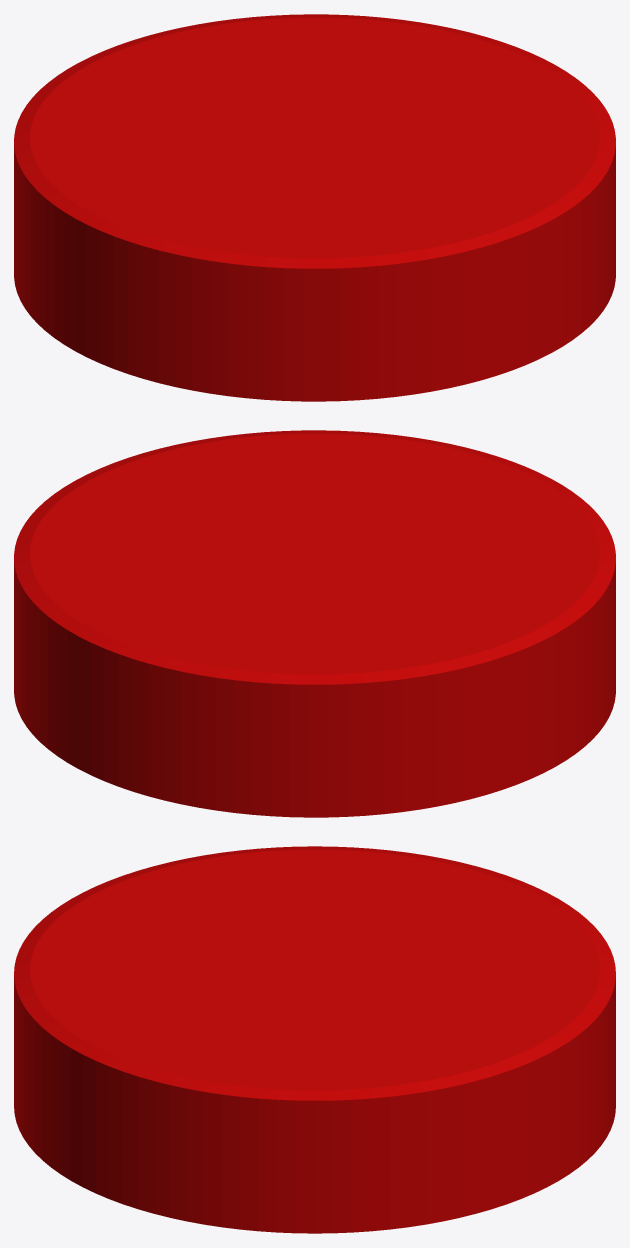
File: ButtonTop.obj
3 views of the same model, one above another, from view 1: azimuth 30°, elevation 25°; view 2: azimuth 150°, elevation 25°; view 3: azimuth 270°, elevation 25° (orthographic).
Visible parts, largest first — view 1: Cylinder_Cylinder.003; view 2: Cylinder_Cylinder.003; view 3: Cylinder_Cylinder.003.
Part boxes in pixels (left/top/right/bottom): Cylinder_Cylinder.003: left=14, top=14, right=615, bottom=401; Cylinder_Cylinder.003: left=14, top=430, right=615, bottom=817; Cylinder_Cylinder.003: left=14, top=846, right=615, bottom=1233.
Bounding box in the file's own units: 2 × 0.5 × 2.
